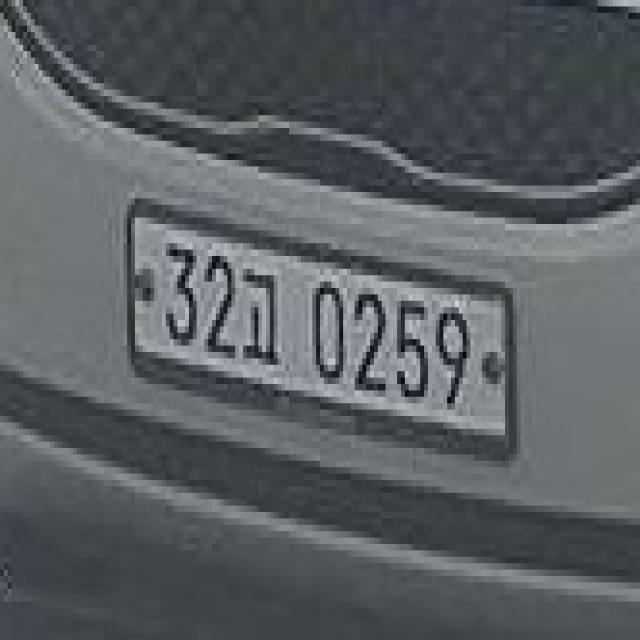0: (308, 282, 347, 384)
2: (347, 288, 389, 397), (201, 250, 239, 358)
3: (166, 243, 200, 346)
5: (393, 294, 428, 404)
9: (432, 300, 470, 410)
go: (235, 262, 282, 372)
license_plate: (127, 205, 513, 448)
